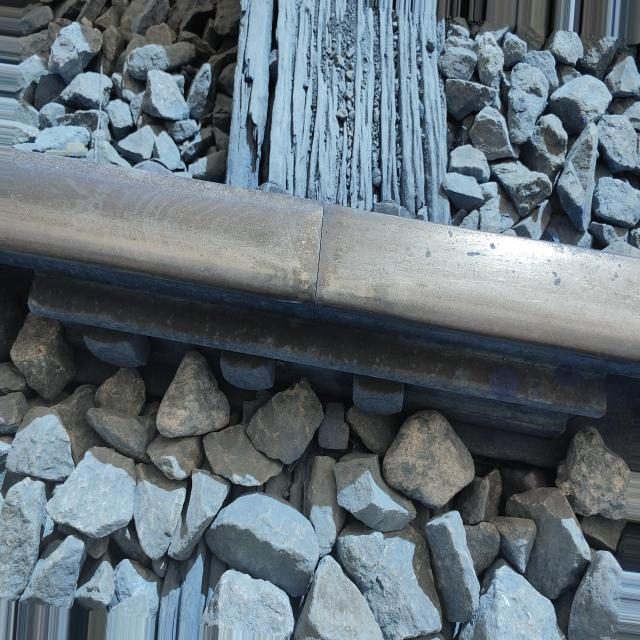Defective Joint: (31, 265, 605, 485)
